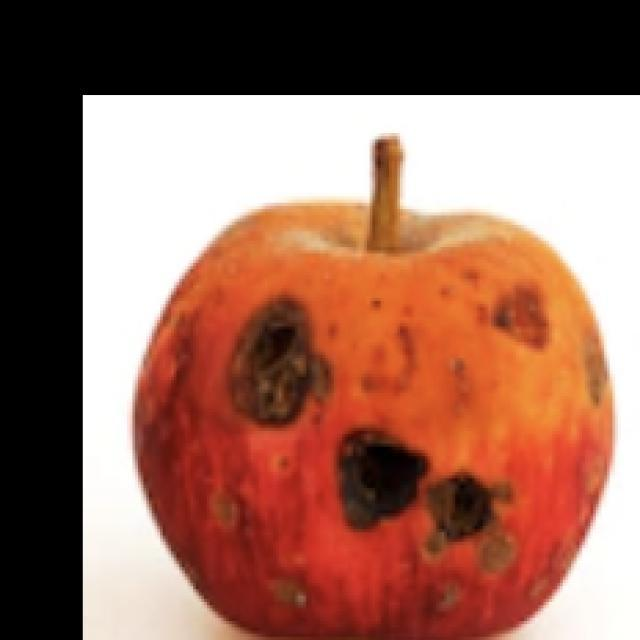Rotten: (148, 195, 620, 640)
